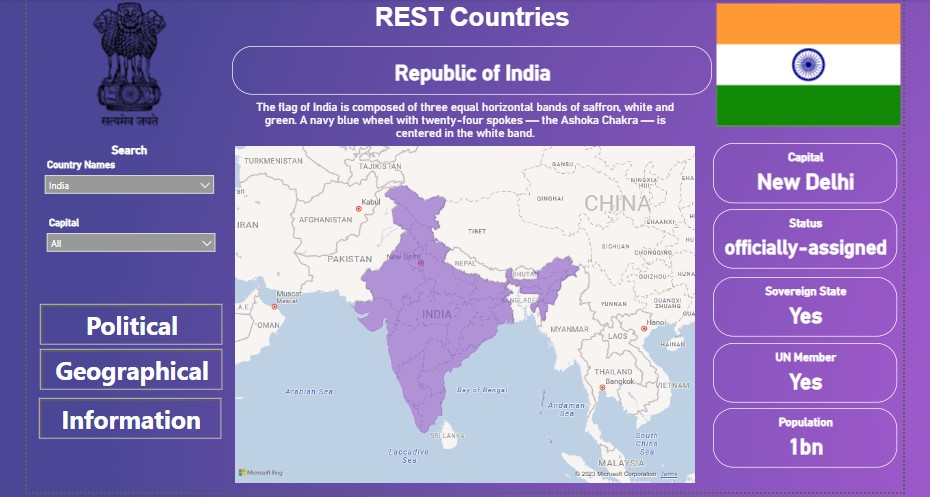

The page's visual inventory and layout, read from the dashboard file:
{"tool":"powerbi","page":{"name":"Political","canvas":[1280,720],"ordinal":0},"visuals":[{"type":"filledMap","fields":{"Category":["all.Common Name"],"Series":["all.Common Name"]},"box":[299.5,210.3,680.9,501.2],"z":0},{"type":"slicer","title":"Search","fields":{"Values":["all.Common Name"]},"box":[16.7,210,266.7,103.3],"z":1000},{"type":"simpleImageEBC4593F96F1425FB3D84C5BF02B5075","fields":{"imageURL":["all.flag url"]},"box":[1001.2,1,278.6,190],"z":2000},{"type":"textbox","box":[300,0,701.4,68.6],"z":3000},{"type":"card","fields":{"Values":["Min(all.Official Name)"]},"box":[300,68.6,701.4,71.4],"z":4000},{"type":"simpleImageEBC4593F96F1425FB3D84C5BF02B5075","fields":{"imageURL":["all.coatofarms"]},"box":[0,0,300,190],"z":5000},{"type":"card","title":"Timezone","fields":{"Values":["Min(all.timezones)"]},"box":[1226.7,735,268.3,96.7],"z":6000},{"type":"textbox","box":[16.7,730,266.7,93.3],"z":7000},{"type":"actionButton","box":[18.3,445,266.5,58.7],"z":8000},{"type":"actionButton","box":[18.3,511,266.5,58.7],"z":9000},{"type":"actionButton","box":[17.1,583.1,266.5,58.7],"z":10000},{"type":"card","fields":{"Values":["Min(all.flag alt)"]},"box":[299.5,139.4,680.9,75.8],"z":12000},{"type":"slicer","title":"Search","fields":{"Values":["all.capital"]},"box":[18.3,314.2,266.5,64.8],"z":13000},{"type":"card","title":"Population","fields":{"Values":["Sum(all.population)"]},"box":[1002.3,597.9,269,87.1],"z":14000},{"type":"card","title":"UN Member","fields":{"Values":["Min(all.unMember)"]},"box":[1002.3,502.2,269,87.1],"z":15000},{"type":"card","title":"Sovereign State","fields":{"Values":["Min(all.independent)"]},"box":[1002.3,406.4,269,87.1],"z":16000},{"type":"card","title":"Status","fields":{"Values":["Min(all.status)"]},"box":[1002.3,306.4,269,87.1],"z":17000},{"type":"card","title":"Capital","fields":{"Values":["Min(all.capital)"]},"box":[1002.4,210.3,268.9,88],"z":18000}]}

Visuals, with their boxes on the page's 1280x720 design canvas (x1, y1, x2, y2). These are canvas units, not pixel positions in the 930x497 screenshot, which may show the page scaled, cropped or inside an application window:
filledMap - all.Common Name x all.Common Name: l=300, t=210, r=980, b=712
"Search" slicer: l=17, t=210, r=283, b=313
simpleImageEBC4593F96F1425FB3D84C5BF02B5075 - all.flag url: l=1001, t=1, r=1280, b=191
textbox: l=300, t=0, r=1001, b=69
card - Min(all.Official Name): l=300, t=69, r=1001, b=140
simpleImageEBC4593F96F1425FB3D84C5BF02B5075 - all.coatofarms: l=0, t=0, r=300, b=190
"Timezone" card: l=1227, t=735, r=1495, b=832
textbox: l=17, t=730, r=283, b=823
actionButton: l=18, t=445, r=285, b=504
actionButton: l=18, t=511, r=285, b=570
actionButton: l=17, t=583, r=284, b=642
card - Min(all.flag alt): l=300, t=139, r=980, b=215
"Search" slicer: l=18, t=314, r=285, b=379
"Population" card: l=1002, t=598, r=1271, b=685
"UN Member" card: l=1002, t=502, r=1271, b=589
"Sovereign State" card: l=1002, t=406, r=1271, b=494
"Status" card: l=1002, t=306, r=1271, b=394
"Capital" card: l=1002, t=210, r=1271, b=298
